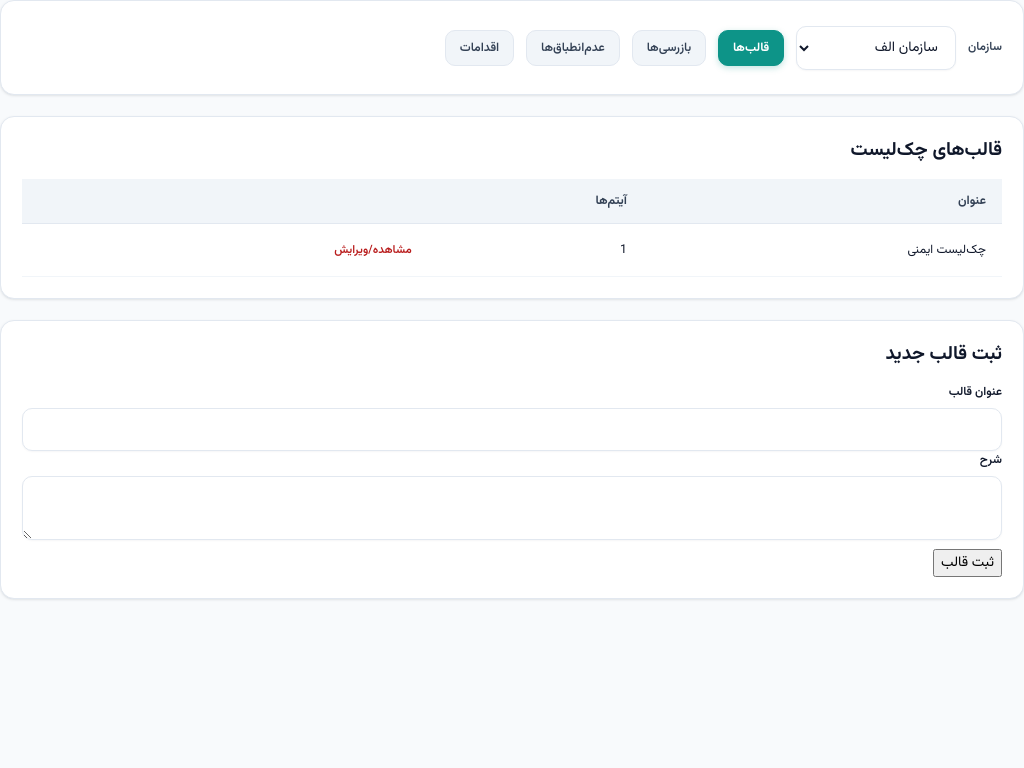
Test: Inspections and Checklists Flow › creates a checklist and adds an item
Click the button "قالب‌ها".
click(751, 48)  # box top-left (718, 30), bottom-right (784, 66)
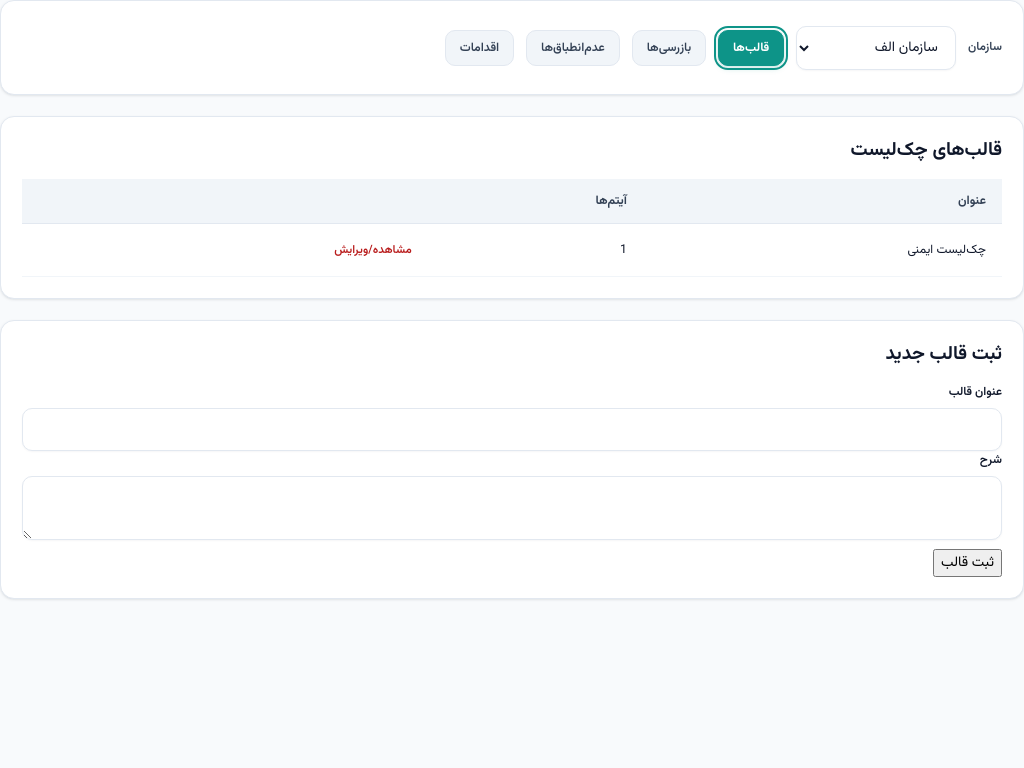
Expected: the heading "قالب‌های چک‌لیست" is shown, top-left (851, 136), bottom-right (1002, 165)
Type "قالب جدید" into the field labelled "عنوان قالب".
click(512, 429); type("قالب جدید")  # box top-left (22, 408), bottom-right (1002, 450)
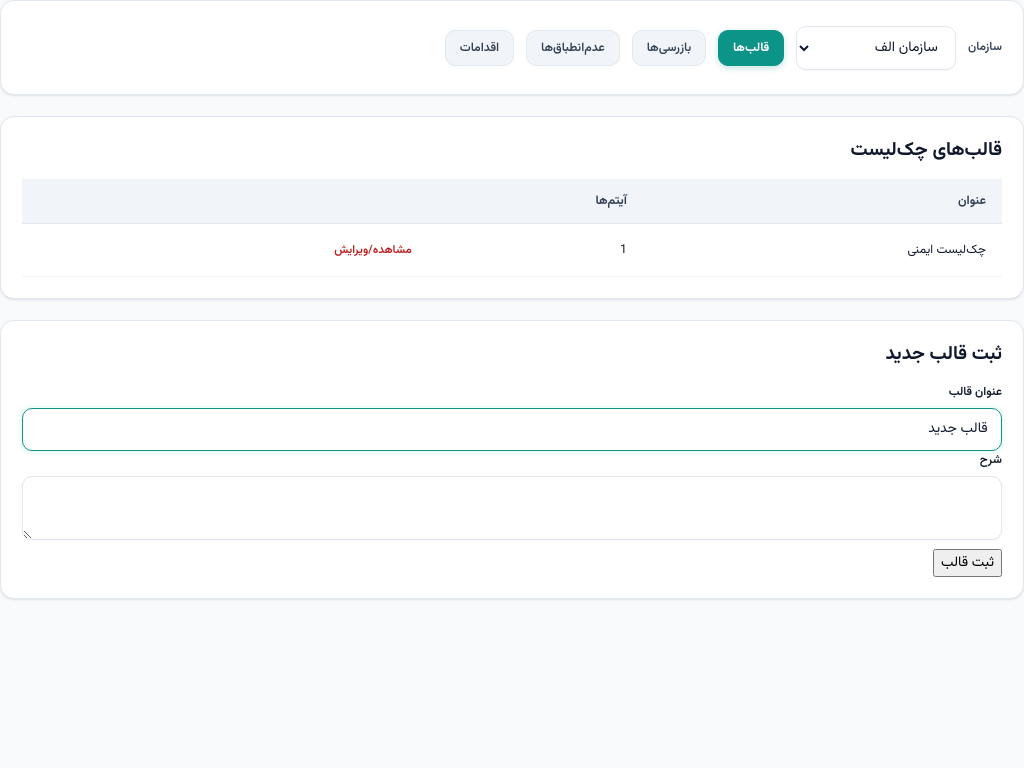
Click the button "ثبت قالب".
click(968, 563)  # box top-left (933, 549), bottom-right (1002, 577)
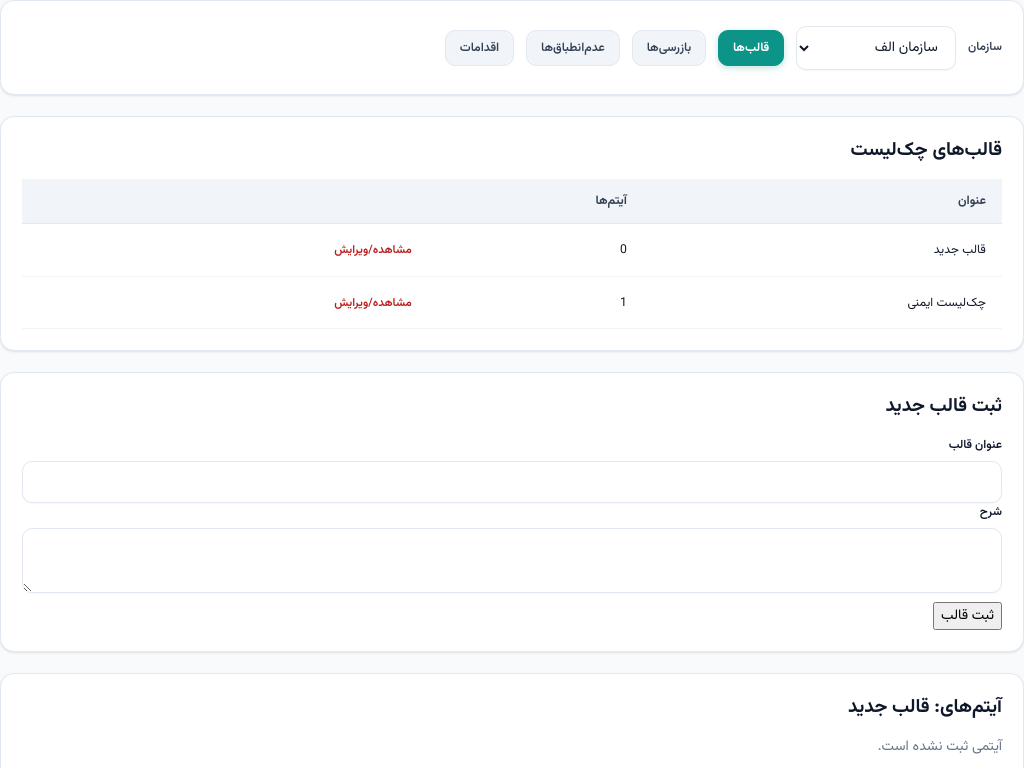
Now the text "قالب جدید" is shown, box top-left (643, 224), bottom-right (1002, 276)
